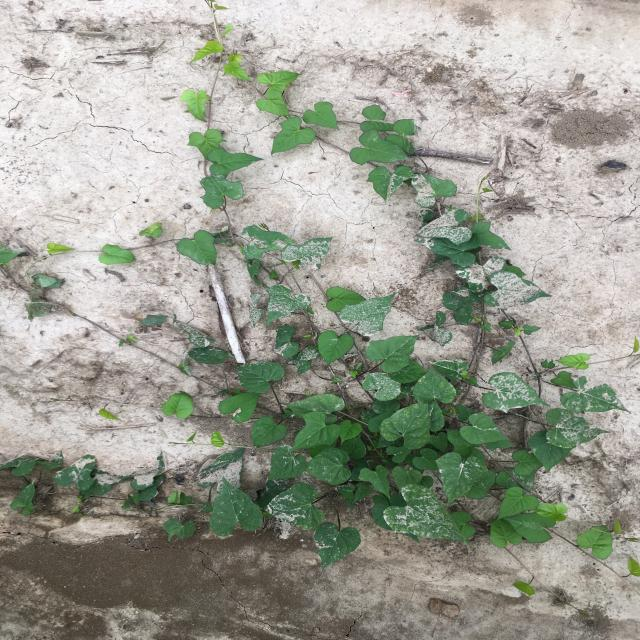MorningGlory: (1, 1, 639, 614)
